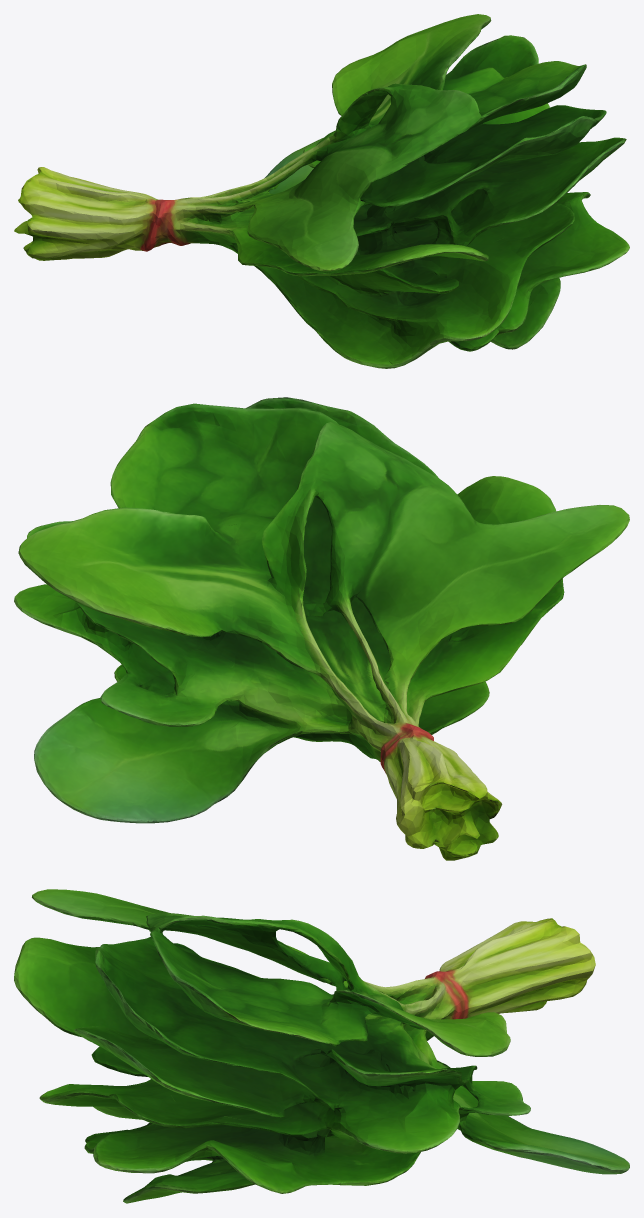
The model's file is spanish.glb.
3 views of the same model, one above another, from view 1: azimuth 30°, elevation 25°; view 2: azimuth 150°, elevation 25°; view 3: azimuth 270°, elevation 25° (orthographic). The views are drawn at different scales.
Visible parts, largest first — view 1: world; view 2: world; view 3: world.
Boxes of the visible parts, <box> form: world: <box>14,14,629,368</box>; world: <box>14,397,629,860</box>; world: <box>14,889,629,1203</box>.
Size of the model in its own units: 0.9983 by 0.4877 by 0.9917.
Materials: 1 (1 with a texture image).
